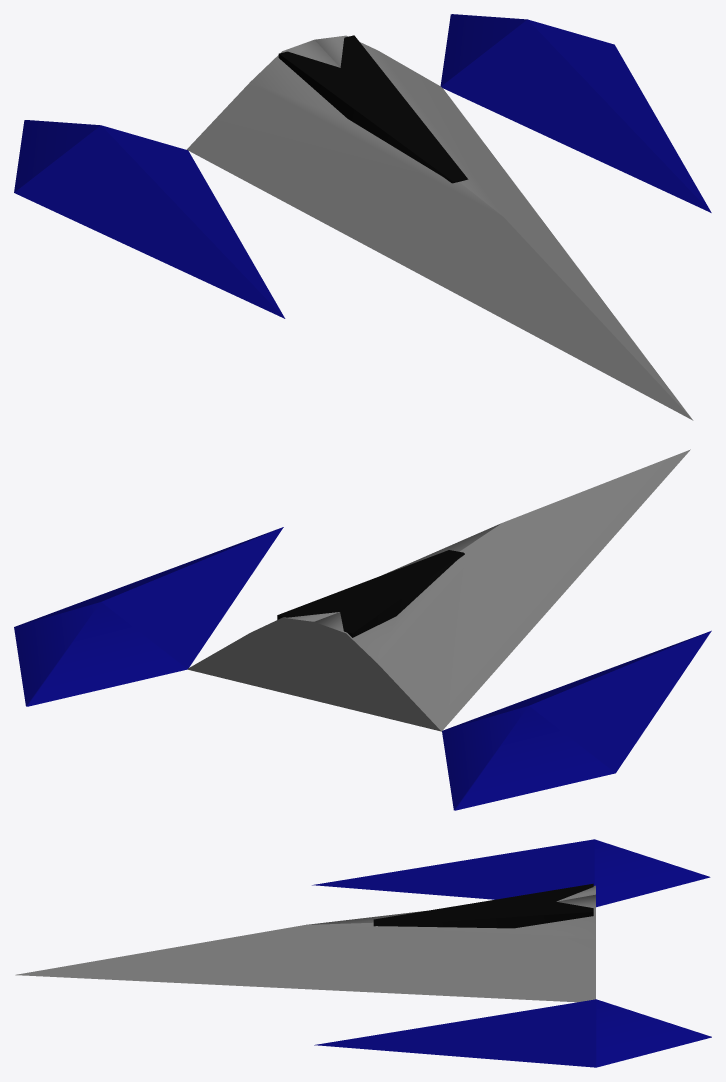
The model's file is SpaceShip.fbx.
3 views of the same model, one above another, from view 1: azimuth 30°, elevation 25°; view 2: azimuth 150°, elevation 25°; view 3: azimuth 270°, elevation 25° (orthographic). The views are drawn at different scales.
Parts seen in each view (by area): view 1: pCube2; view 2: pCube2; view 3: pCube2.
Part boxes in pixels (x1=…): pCube2: x1=14, y1=14, x2=711, y2=420; pCube2: x1=14, y1=449, x2=711, y2=810; pCube2: x1=15, y1=839, x2=711, y2=1067.
Bounding box in the file's own units: 2.7 × 0.4465 × 3.52.
